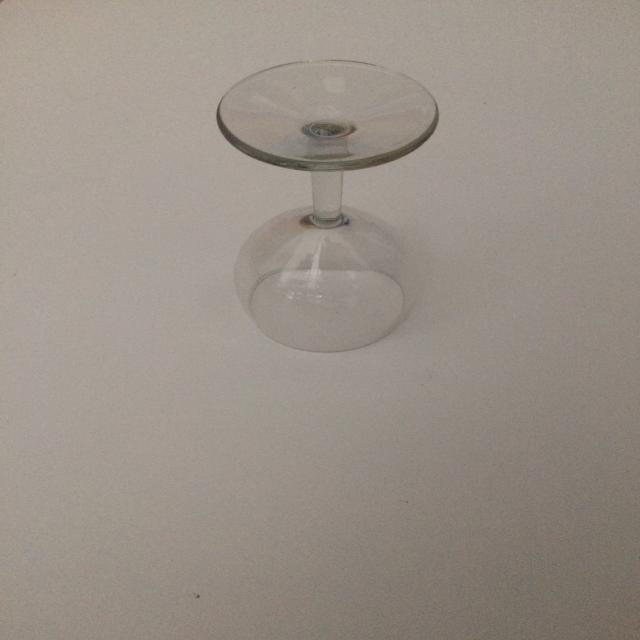glass: (216, 59, 440, 352)
